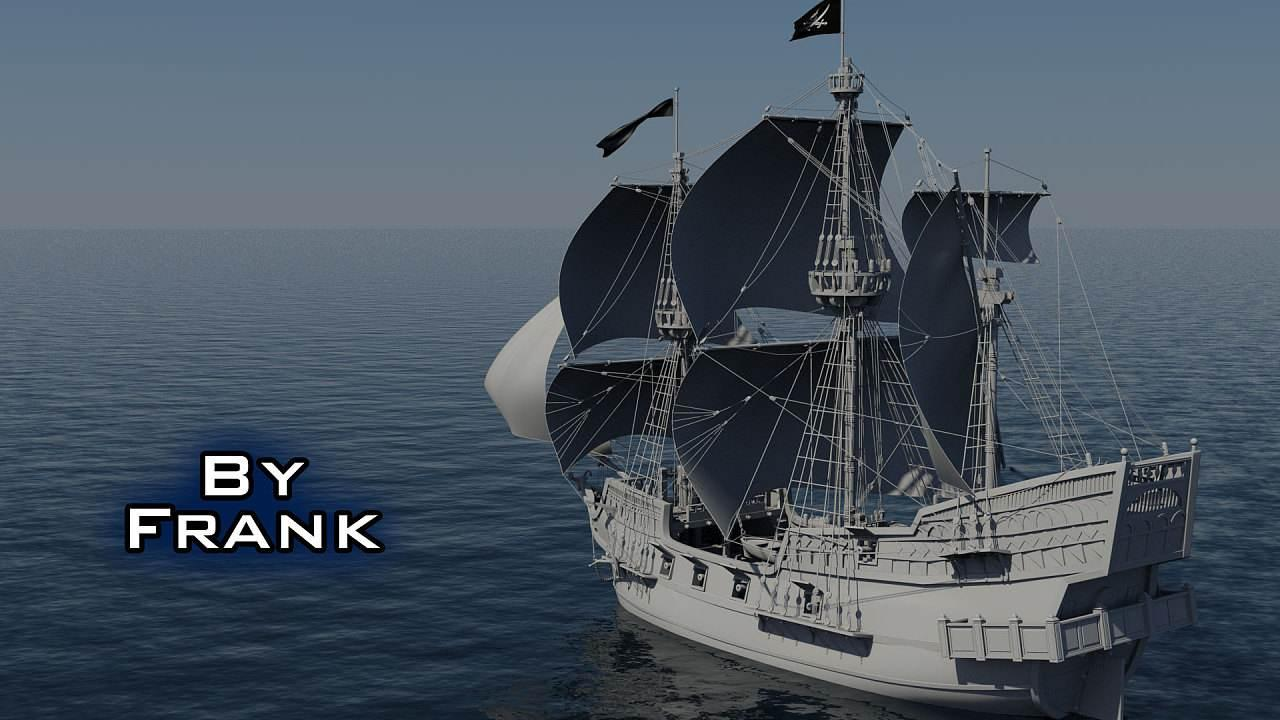fanchuan: (482, 5, 1205, 714)
